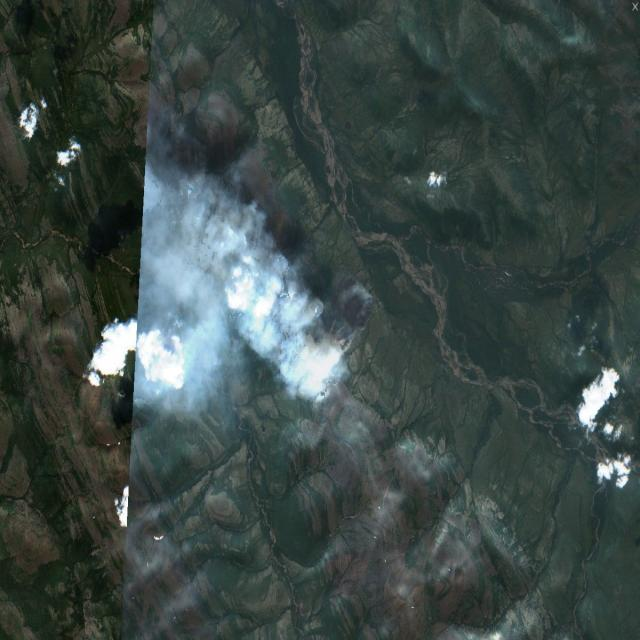fire: (308, 262, 383, 368)
